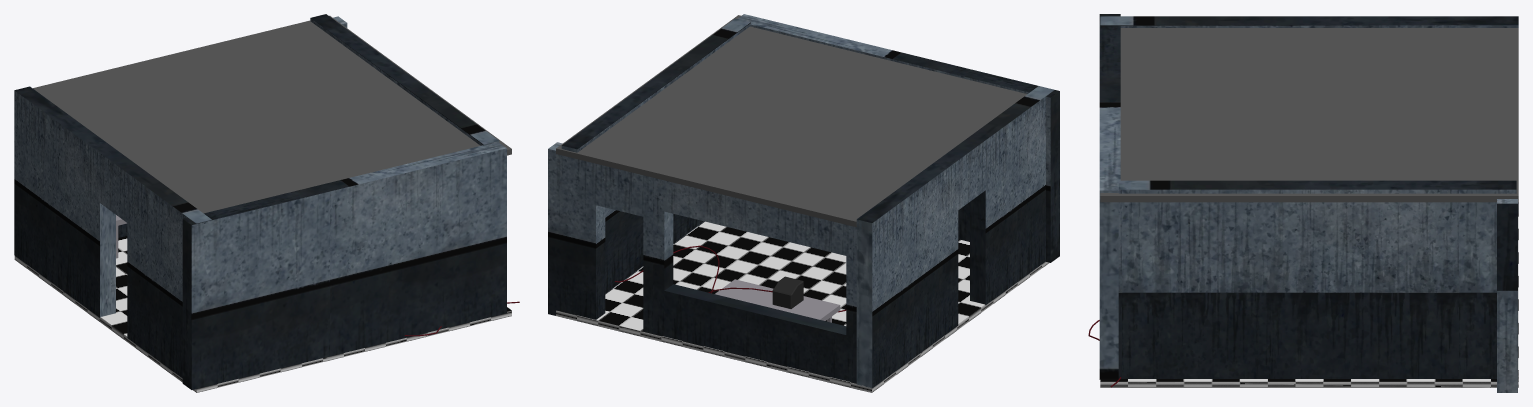
Rendered from office.glb.
3 views of the same model, side by side, from view 1: azimuth 30°, elevation 25°; view 2: azimuth 150°, elevation 25°; view 3: azimuth 270°, elevation 25° (orthographic). The views are drawn at different scales.
Parts seen in each view (by area): view 1: mur1, plafond, mur3, sol, mur2; view 2: plafond, mur3, mur fenetre, sol, mur2, mur1, Bureau, ecran CRT; view 3: mur2, plafond, mur1, mur3, mur fenetre, sol.
Part boxes in pixels (bbox=[...]): mur1: bbox=[182, 142, 506, 389]; plafond: bbox=[33, 15, 511, 213]; mur3: bbox=[14, 86, 211, 378]; sol: bbox=[14, 236, 511, 392]; mur2: bbox=[310, 14, 499, 145]; plafond: bbox=[556, 15, 1026, 230]; mur3: bbox=[856, 86, 1054, 388]; mur fenetre: bbox=[548, 142, 858, 389]; sol: bbox=[556, 221, 1049, 392]; mur2: bbox=[561, 18, 750, 293]; mur1: bbox=[737, 14, 1059, 262]; Bureau: bbox=[715, 279, 840, 322]; ecran CRT: bbox=[772, 276, 803, 308]; mur2: bbox=[1118, 180, 1516, 378]; plafond: bbox=[1100, 28, 1518, 202]; mur1: bbox=[1099, 14, 1120, 379]; mur3: bbox=[1100, 16, 1518, 213]; mur fenetre: bbox=[1497, 199, 1517, 392]; sol: bbox=[1100, 213, 1518, 387].
Size of the model in its own units: 6.34 by 3.11 by 6.17.
15 materials, 3 textured.
